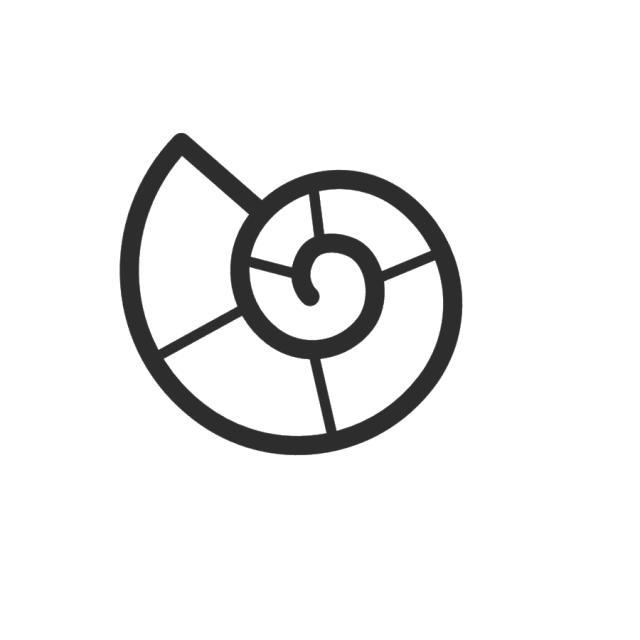fossil: (116, 129, 470, 463)
